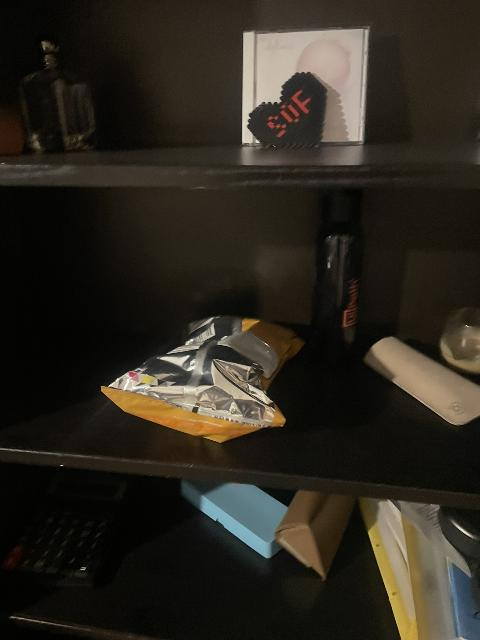Chio Hula Hoops Cheese 70g: (100, 316, 304, 442)
